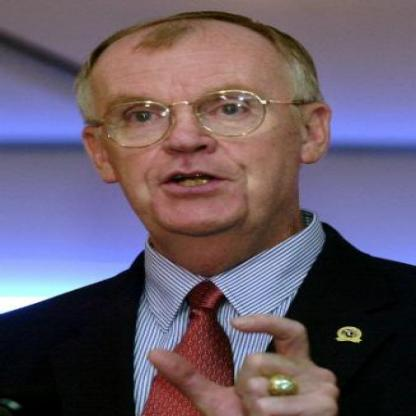face: (99, 17, 305, 241)
